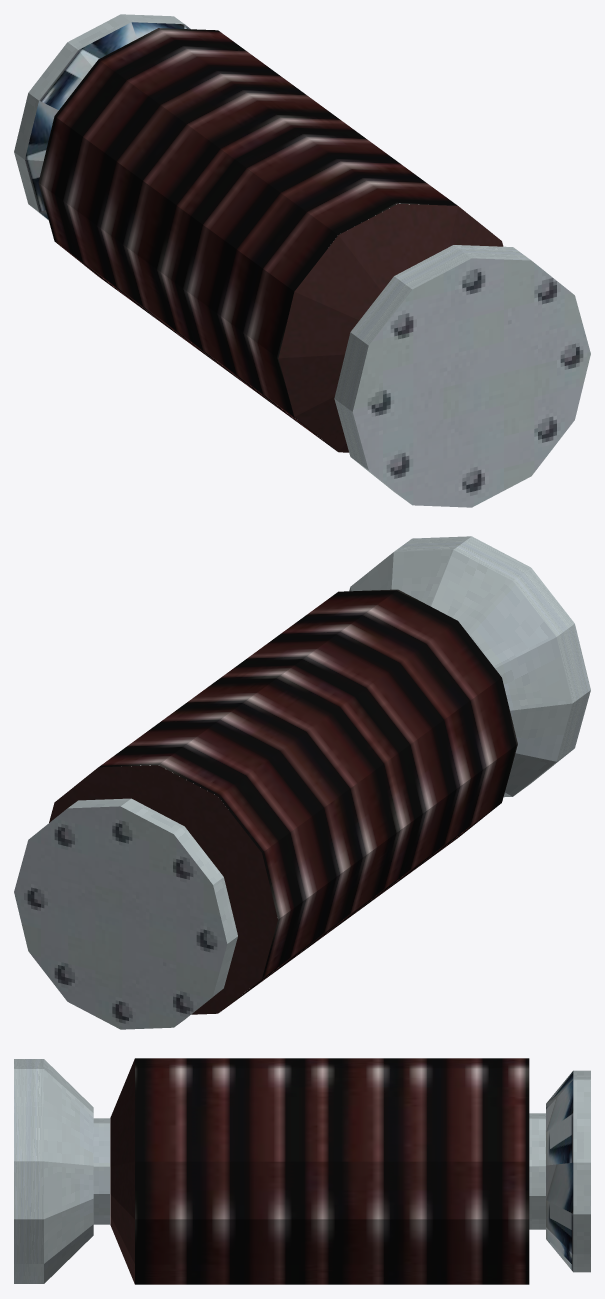
The model's file is jyz432-geode.glb.
The picture shows the model from 3 angles, top to bottom: view 1: azimuth 30°, elevation 25°; view 2: azimuth 150°, elevation 25°; view 3: azimuth 270°, elevation 25°; orthographic projection. The views are drawn at different scales.
Visible parts, largest first — view 1: Node; view 2: Node; view 3: Node.
Boxes of the visible parts, left/top/right/bottom form: Node: left=14, top=14, right=590, bottom=507; Node: left=14, top=536, right=590, bottom=1029; Node: left=14, top=1058, right=590, bottom=1284.
Size of the model in its own units: 0.167 by 0.167 by 0.4241.
Materials: 5 (5 with a texture image).
